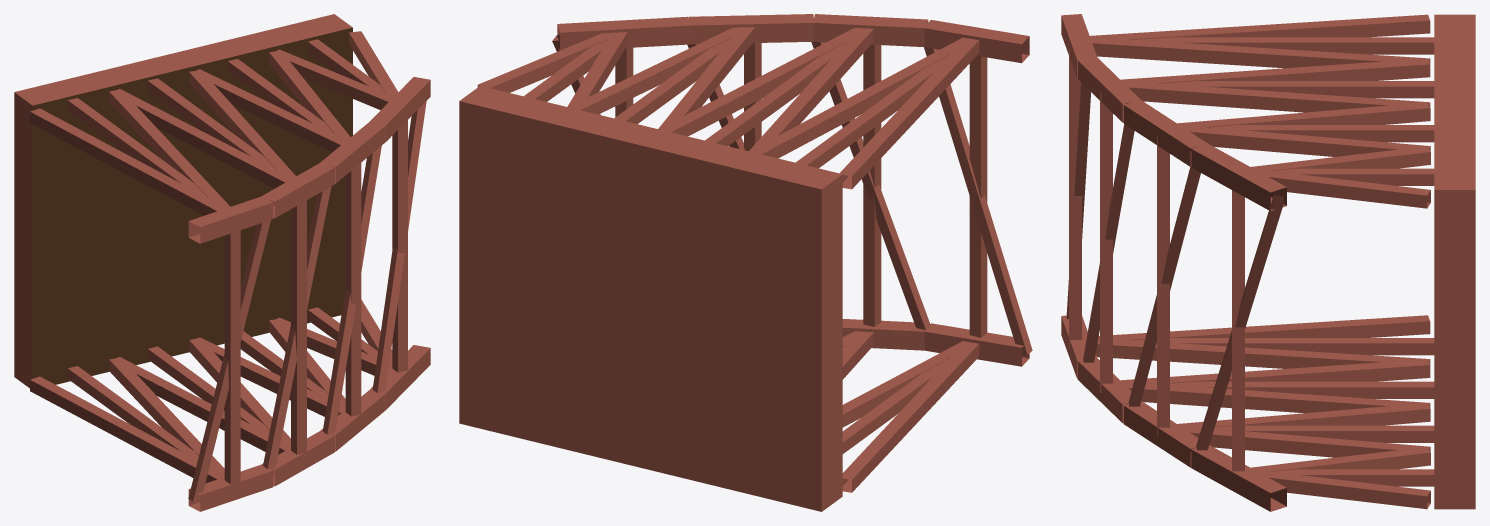
The model's file is south.glb.
3 renders of one model, left to right at view 1: azimuth 30°, elevation 25°; view 2: azimuth 150°, elevation 25°; view 3: azimuth 270°, elevation 25°, orthographic. The views are drawn at different scales.
Visible parts, largest first — view 1: bridge_06_south; view 2: bridge_06_south; view 3: bridge_06_south.
Part boxes in pixels (x1,y1,x2,y2): bridge_06_south: (14,14,430,511); bridge_06_south: (459,14,1032,511); bridge_06_south: (1061,14,1475,511).
Size of the model in its own units: 16.54 by 13.6 by 16.
